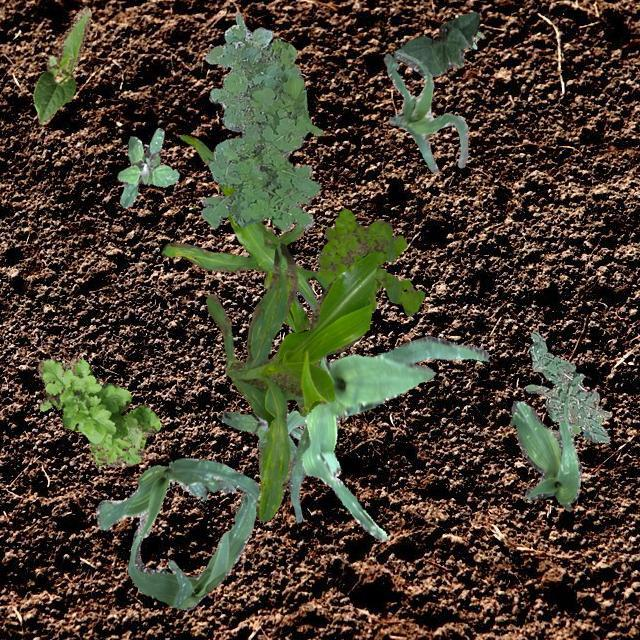crop: (204, 240, 376, 520), (301, 334, 488, 540), (160, 134, 328, 332), (127, 491, 256, 608), (96, 456, 260, 538), (382, 49, 467, 172), (509, 400, 582, 510), (31, 5, 90, 124), (392, 10, 478, 76), (284, 409, 310, 522)
weed: (200, 23, 322, 230), (36, 356, 160, 466), (316, 208, 424, 314), (524, 331, 610, 442), (116, 126, 178, 206), (220, 408, 302, 459), (205, 12, 272, 62), (550, 416, 602, 438), (468, 30, 482, 48)
